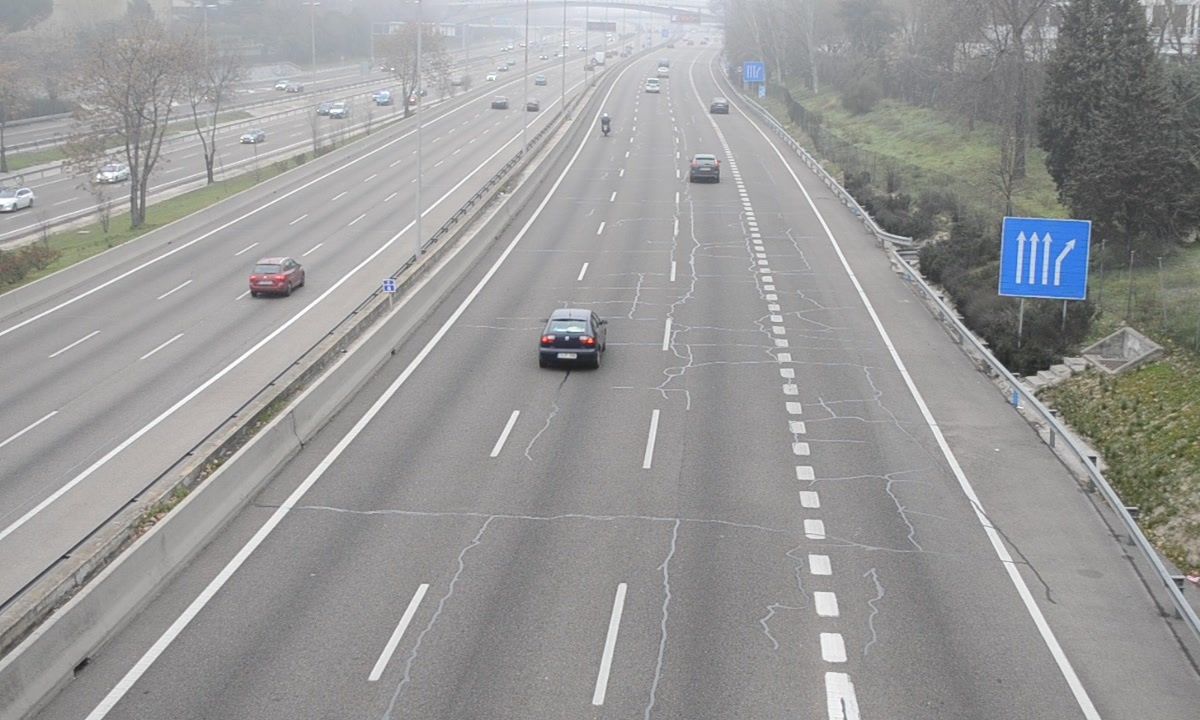car: (537, 309, 605, 371), (687, 153, 721, 185)
motorcycle: (600, 112, 611, 139)
